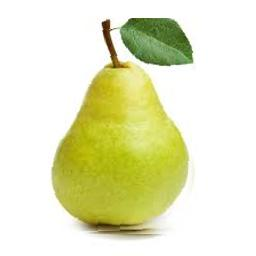Pear Fresh: (49, 19, 202, 235)
